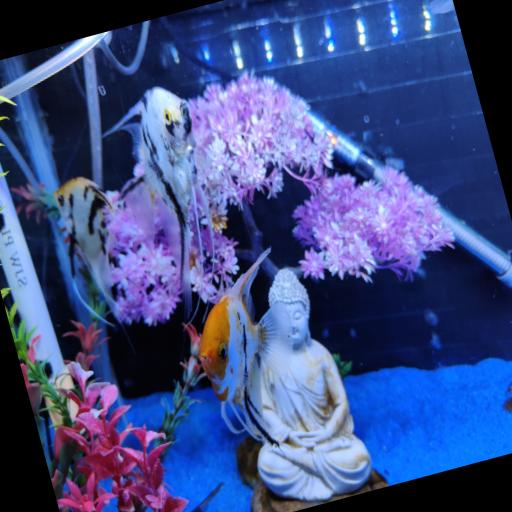Fish: (103, 87, 210, 319), (199, 248, 291, 443), (53, 177, 116, 326), (428, 0, 454, 14)
